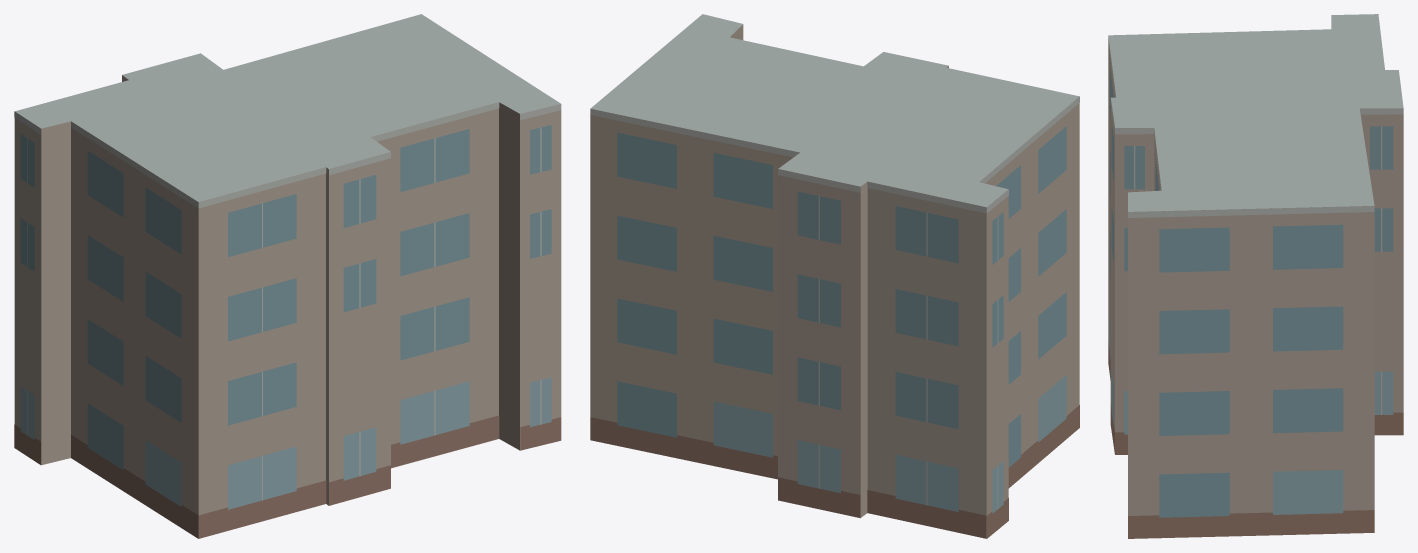
Rendered from survey-upis-32759429.glb.
The picture shows the model from 3 angles, left to right: view 1: azimuth 30°, elevation 25°; view 2: azimuth 150°, elevation 25°; view 3: azimuth 270°, elevation 25°; orthographic projection. The views are drawn at different scales.
Visible parts, largest first — view 1: survey-upis-32759429.tmp; view 2: survey-upis-32759429.tmp; view 3: survey-upis-32759429.tmp.
Part boxes in pixels (x1,y1,x2,y2): survey-upis-32759429.tmp: [14, 14, 561, 538]; survey-upis-32759429.tmp: [590, 14, 1079, 538]; survey-upis-32759429.tmp: [1108, 14, 1403, 538].
Size of the model in its own units: 16.89 by 13 by 10.65.
